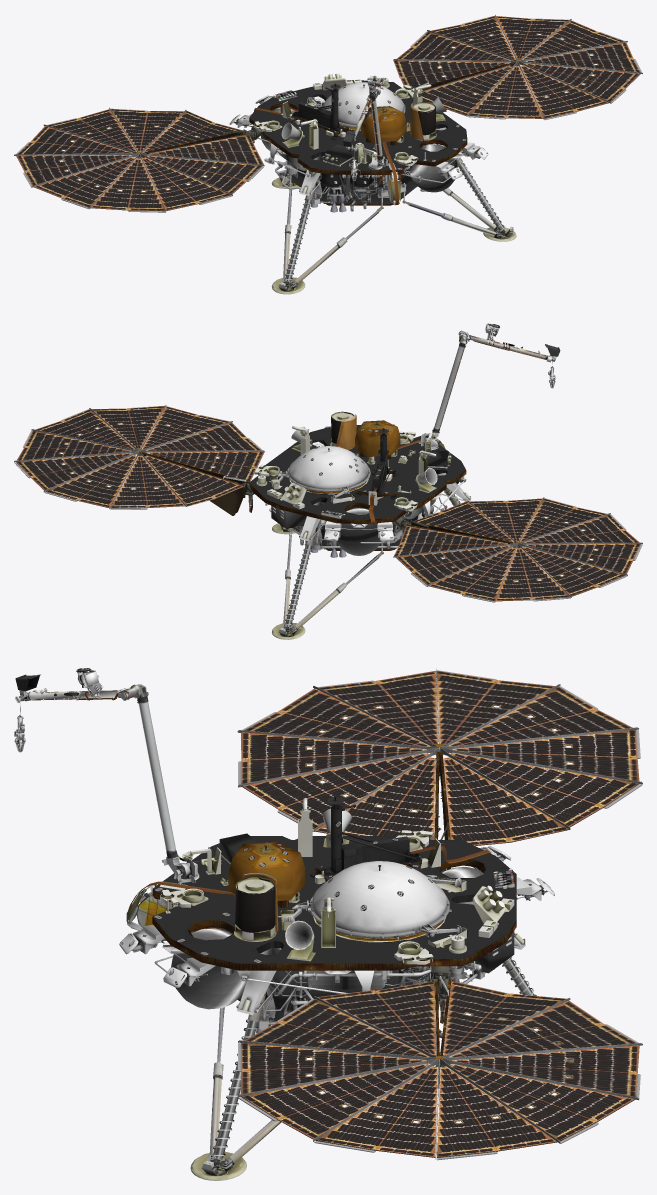
Rendered from insight.glb.
The picture shows the model from 3 angles, top to bottom: view 1: azimuth 30°, elevation 25°; view 2: azimuth 150°, elevation 25°; view 3: azimuth 270°, elevation 25°; orthographic projection. The views are drawn at different scales.
Parts seen in each view (by area): view 1: deck, SEIS, Cube.079, arm_01, cable_02; view 2: deck, SEIS, Cube.079, arm_01, cable_02; view 3: deck, SEIS, Cube.079, arm_01, cable_02.
Boxes of the visible parts, x1,y1,x2,y2 form: deck: (14,14,642,294); SEIS: (308,75,410,204); Cube.079: (393,60,507,89); arm_01: (343,78,388,180); cable_02: (286,84,398,205); deck: (14,405,642,639); SEIS: (274,324,551,498); Cube.079: (145,455,243,506); arm_01: (420,323,560,448); cable_02: (290,334,546,493); deck: (119,668,642,1180); SEIS: (27,668,462,939); Cube.079: (443,981,566,1055); arm_01: (14,668,198,883); cable_02: (32,691,443,941).
Bounding box in the file's own units: 6.14 × 2.17 × 3.33.
Materials: 11 (11 with a texture image).
